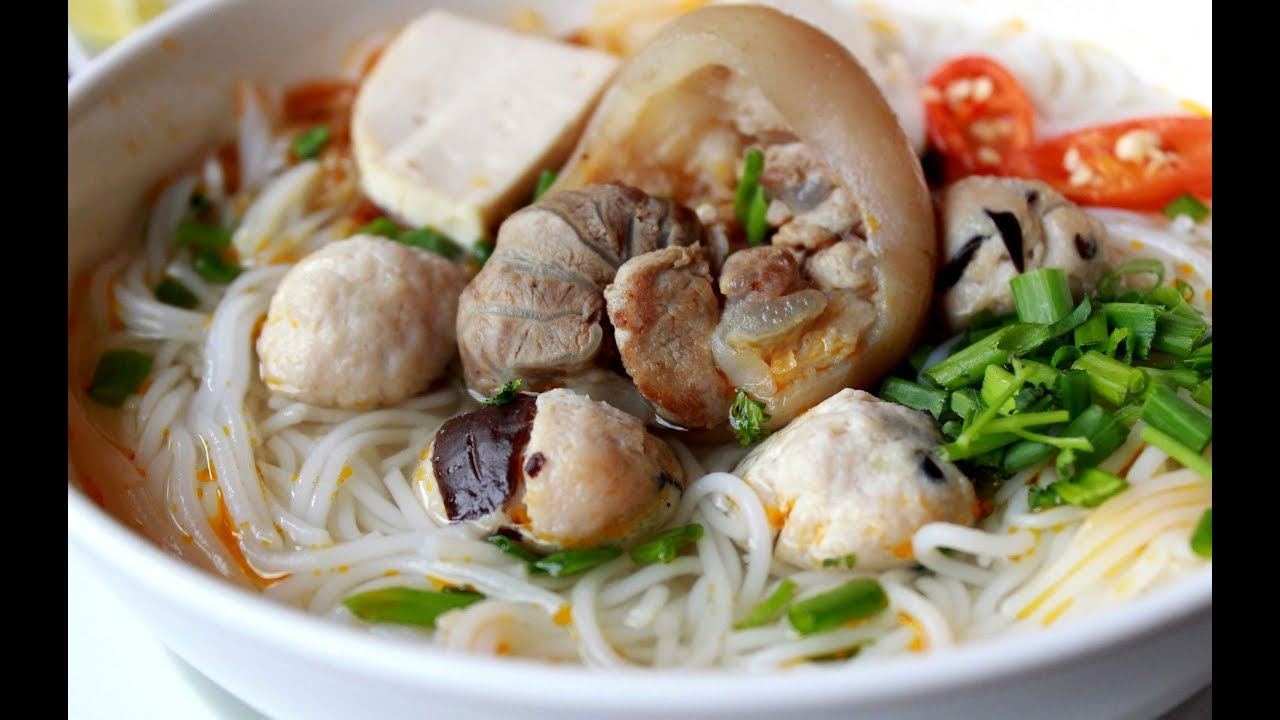chamoc: (726, 387, 988, 579), (356, 11, 557, 250), (418, 388, 680, 557), (266, 229, 459, 416), (925, 175, 1104, 328)
chilli: (1034, 121, 1209, 211), (929, 56, 1040, 188)
pork: (485, 6, 930, 428)
